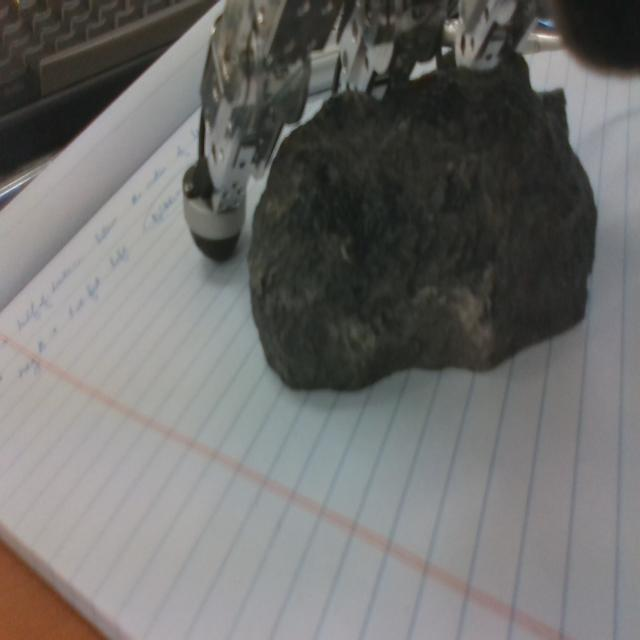stone: (249, 51, 598, 391)
